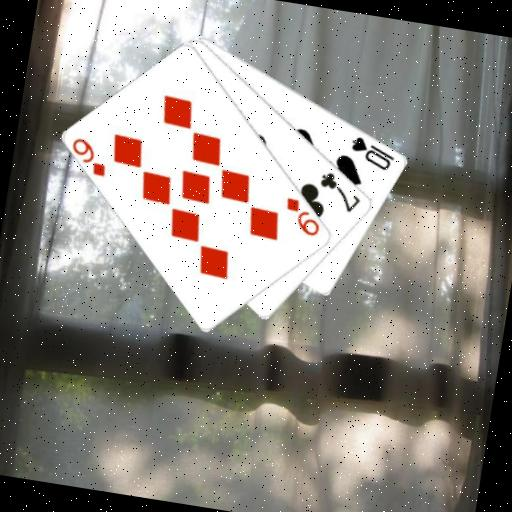10S: (344, 132, 399, 173)
7C: (313, 167, 366, 215)
9D: (279, 193, 326, 239), (65, 133, 112, 178)
